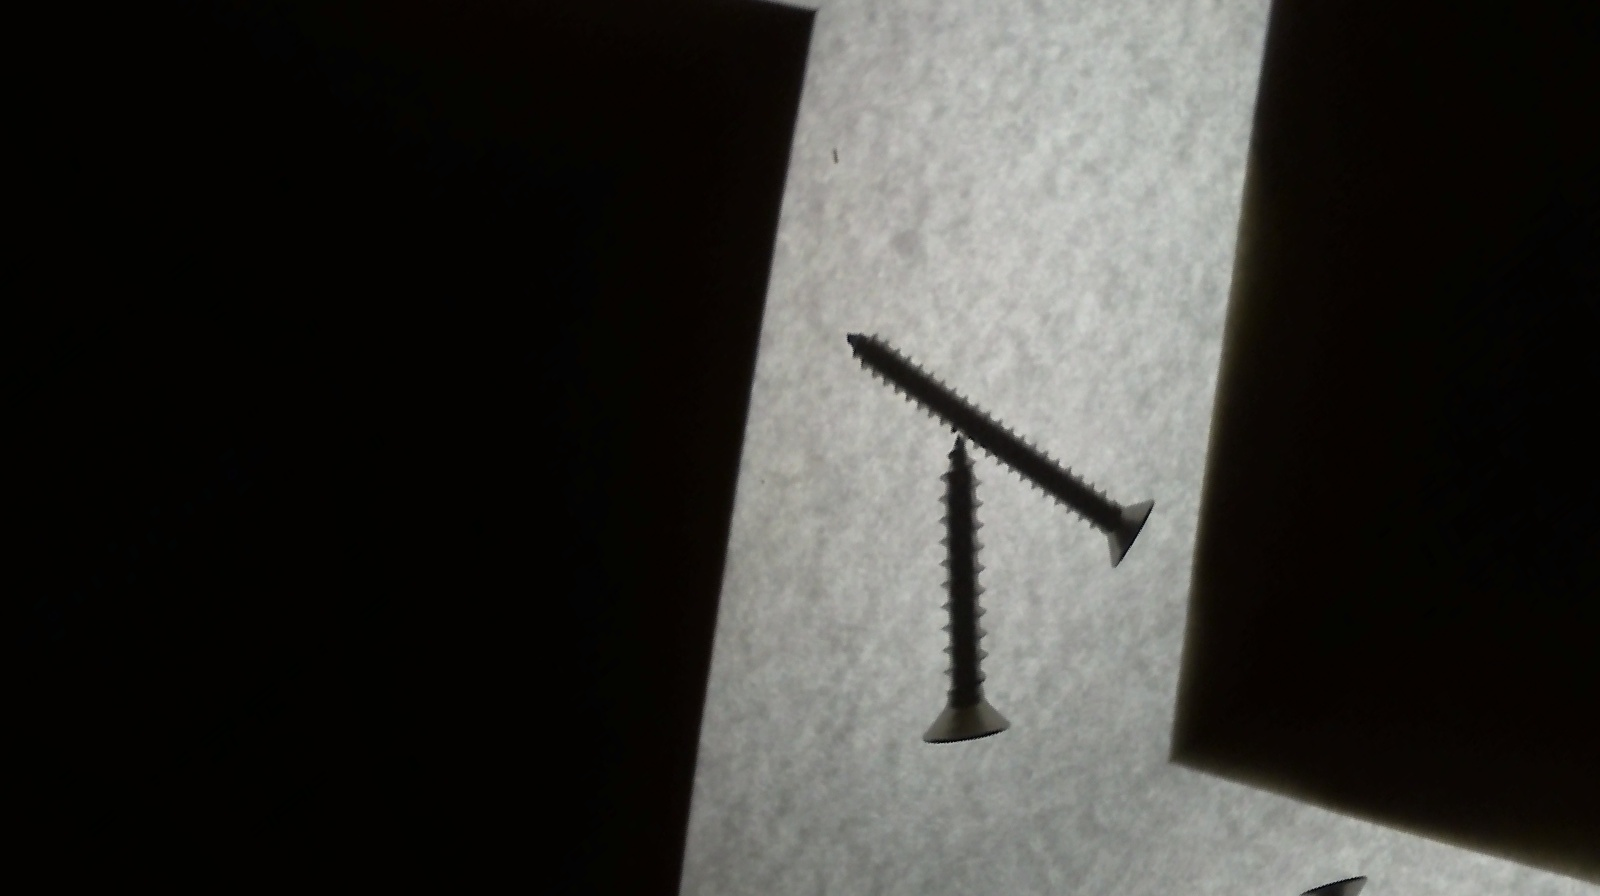S001: (813, 429, 1091, 779)
S002: (840, 214, 1165, 644)
